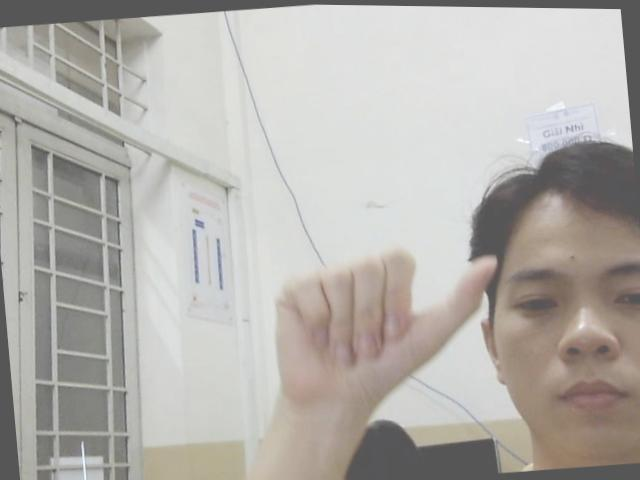A: (255, 234, 506, 403)
